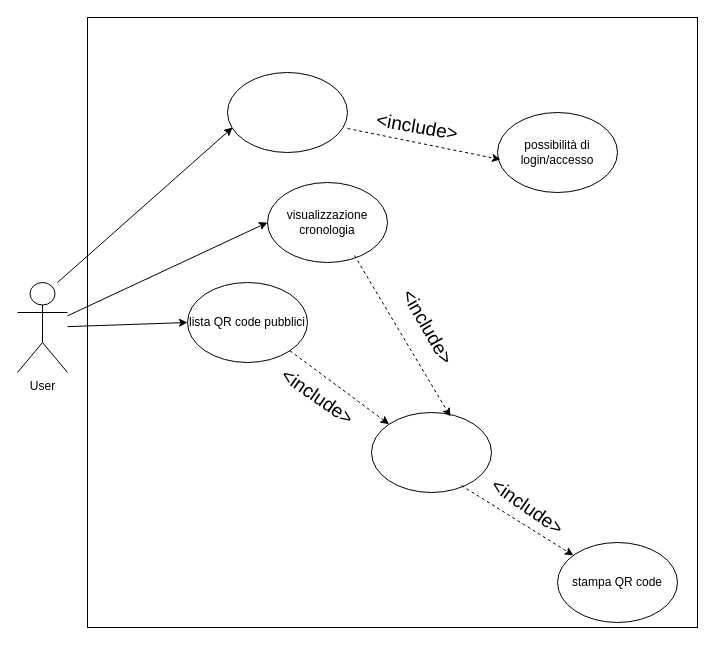
The diagram is 715 pixels wide and 645 high, and some of its shapes have lost their labels. The centre of each missing label's shape, as x and y in pixels:
"creazione QR code" goes at [287,112].
"selezione singolo QR" goes at [431,452].
